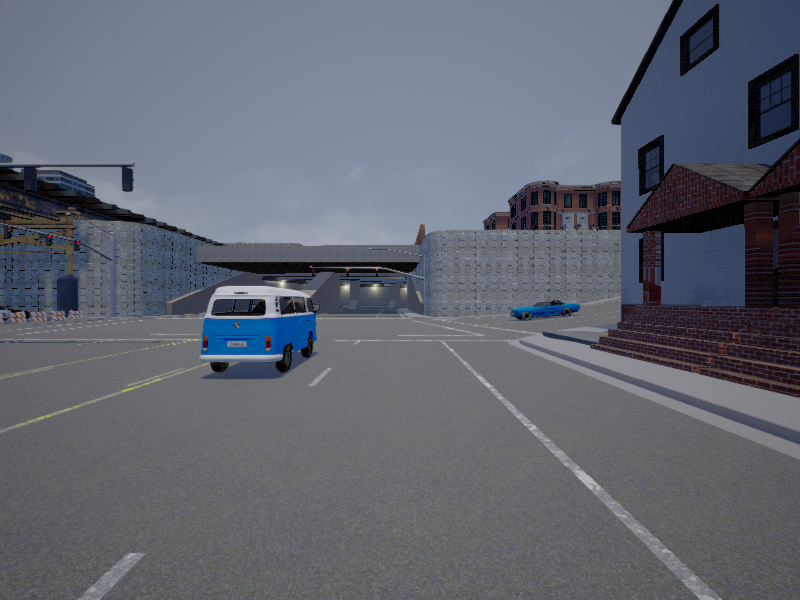Benign: (199, 285, 317, 375), (513, 299, 582, 320)
